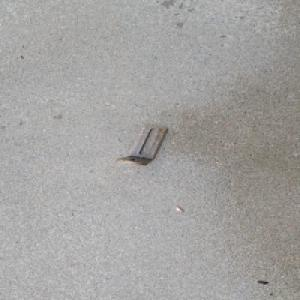MetalPart: (115, 124, 168, 166)
